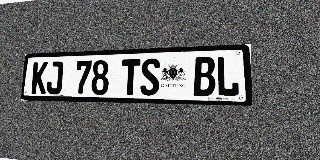7: (74, 60, 92, 95)
8: (91, 60, 109, 95)
B: (193, 57, 215, 96)
J: (46, 61, 63, 94)
K: (31, 62, 48, 94)
L: (216, 56, 239, 97)
S: (140, 58, 160, 96)
T: (121, 59, 140, 95)
